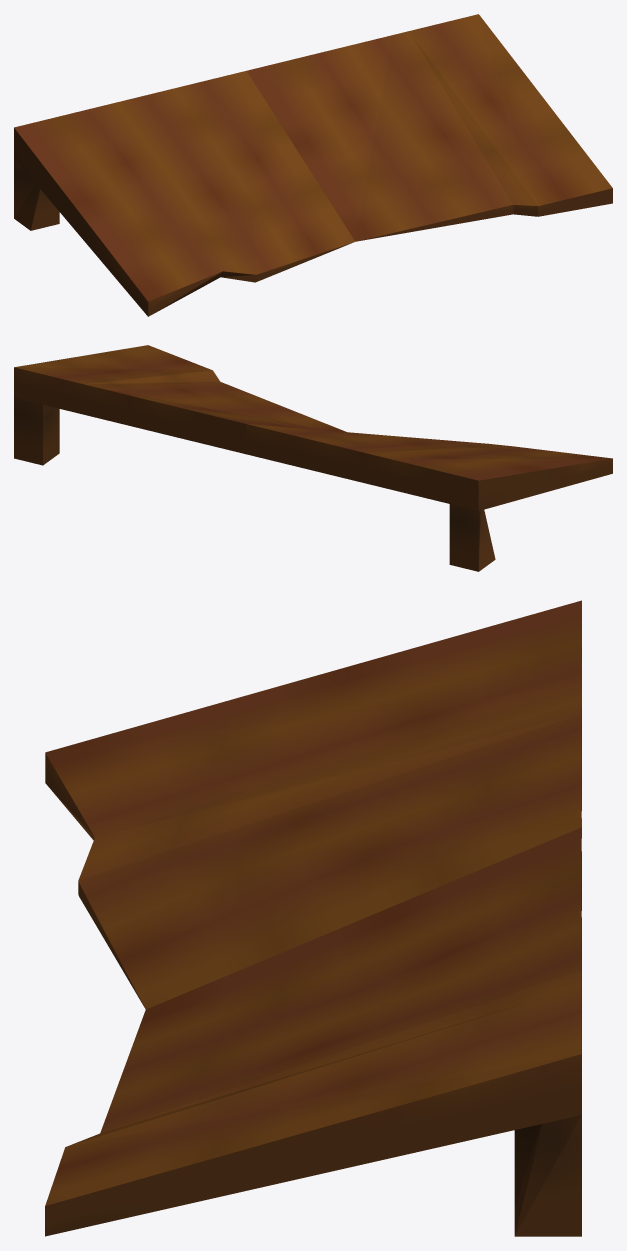
The model's file is table_broken_thin.obj.
3 views of the same model, one above another, from view 1: azimuth 30°, elevation 25°; view 2: azimuth 150°, elevation 25°; view 3: azimuth 270°, elevation 25° (orthographic). The views are drawn at different scales.
Parts seen in each view (by area): view 1: Default; view 2: Default; view 3: Default.
Part boxes in pixels (<box>): Default: <box>14,14,612,316</box>; Default: <box>14,345,612,571</box>; Default: <box>45,600,581,1236</box>.
Bounding box in the file's own units: 2 × 0.375 × 1.
